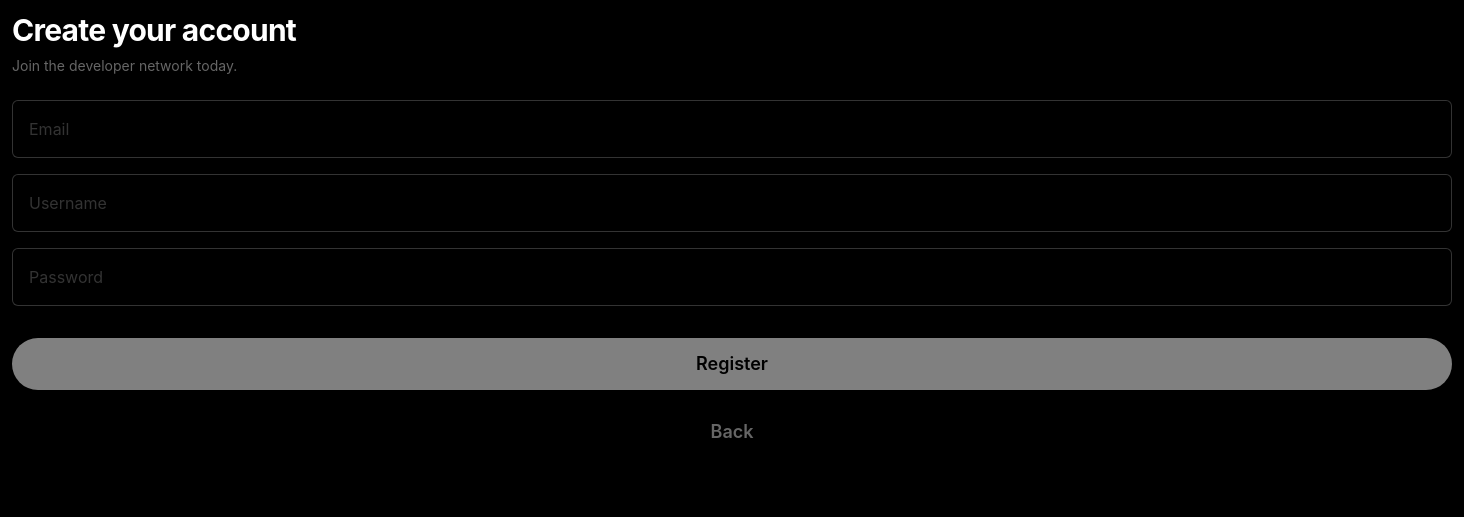
Test: RegisterView › marks the field the API rejected, not the one the message reads like
In the field with placeholder "Email": (732, 129) [12, 100, 1452, 158], type "new@example.com"
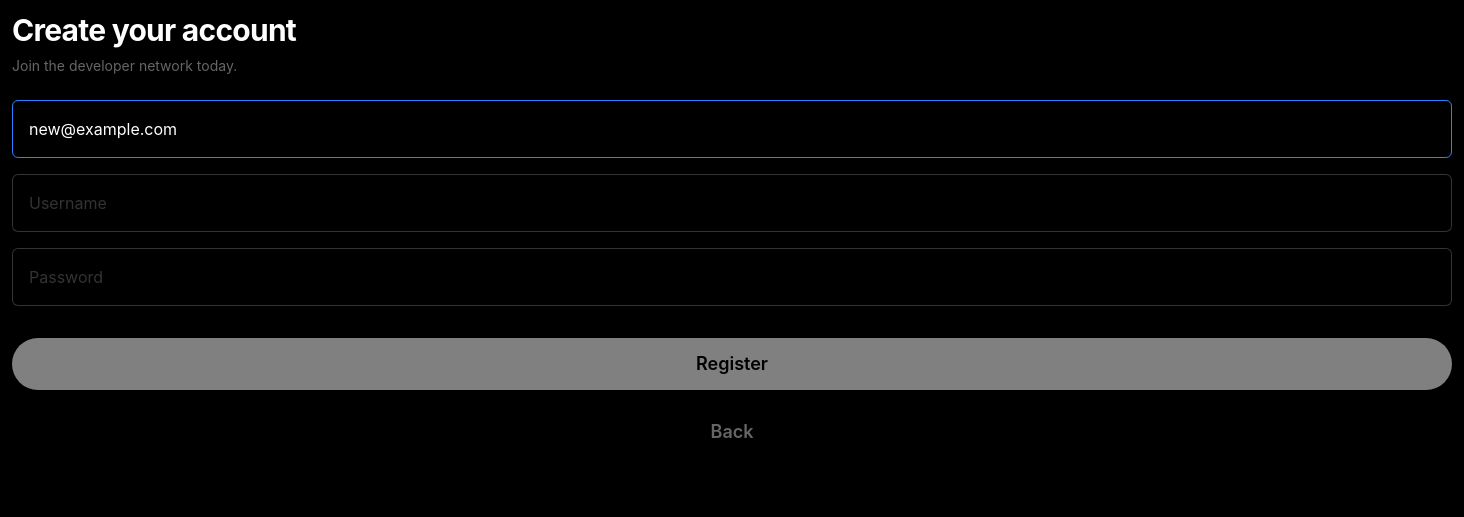
In the field with placeholder "Username": (732, 203) [12, 174, 1452, 232], type "newbie"
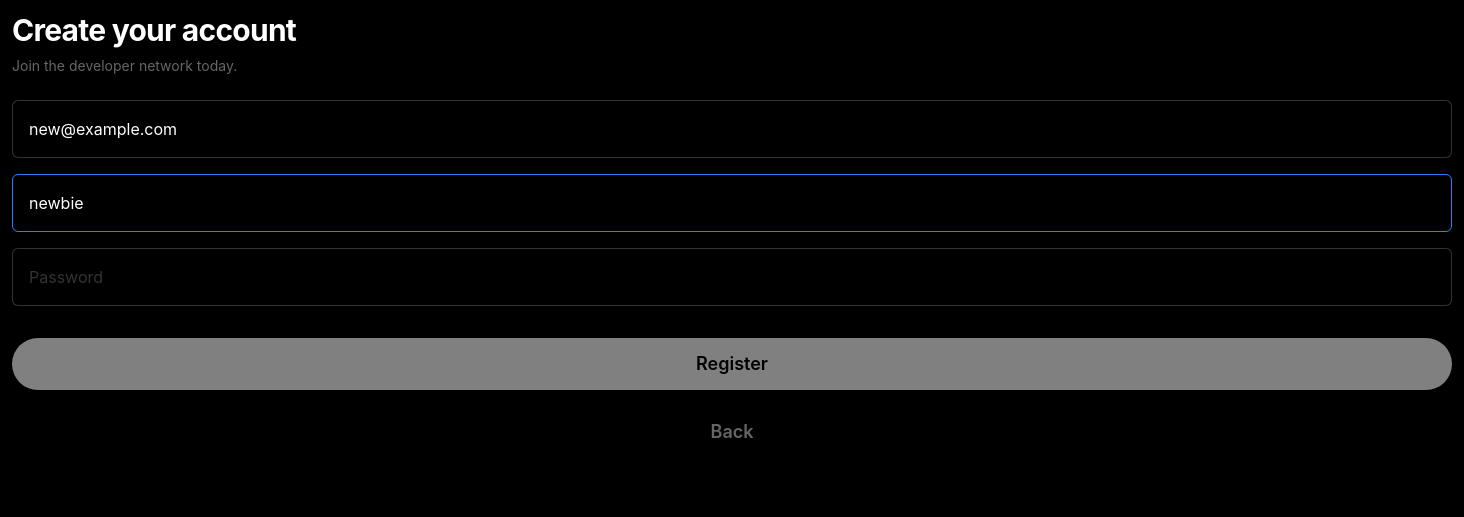
In the password field with placeholder "Password": (732, 277) [12, 248, 1452, 306], type "hunter2hunter2"
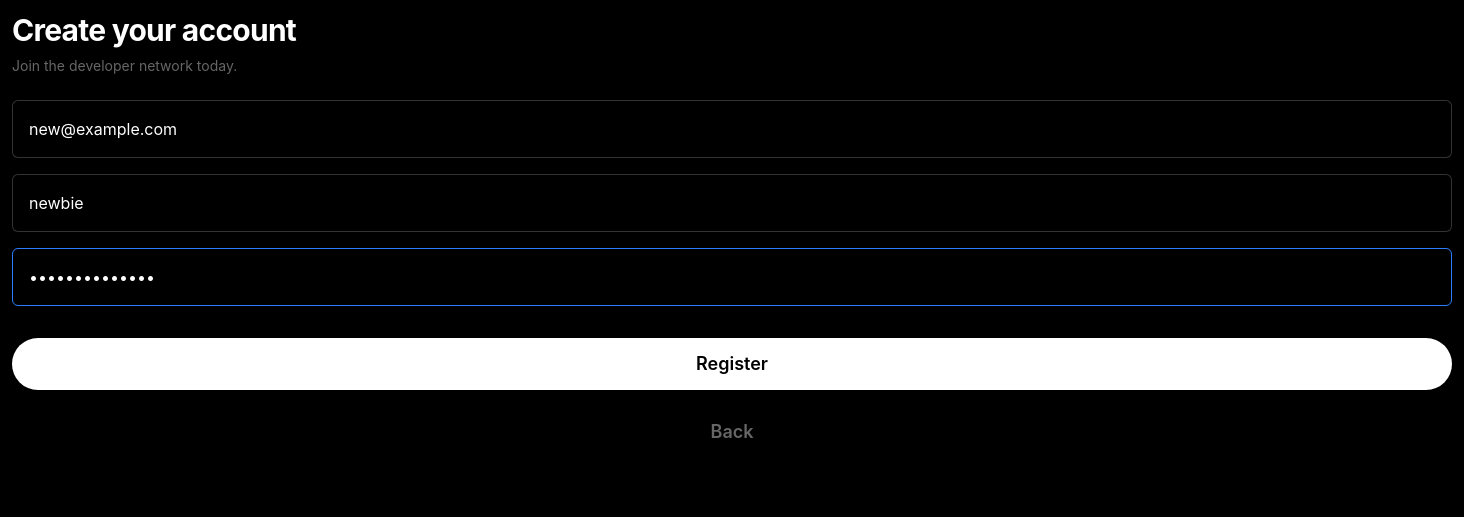
Click the button "Register": (732, 364) [12, 338, 1452, 390]
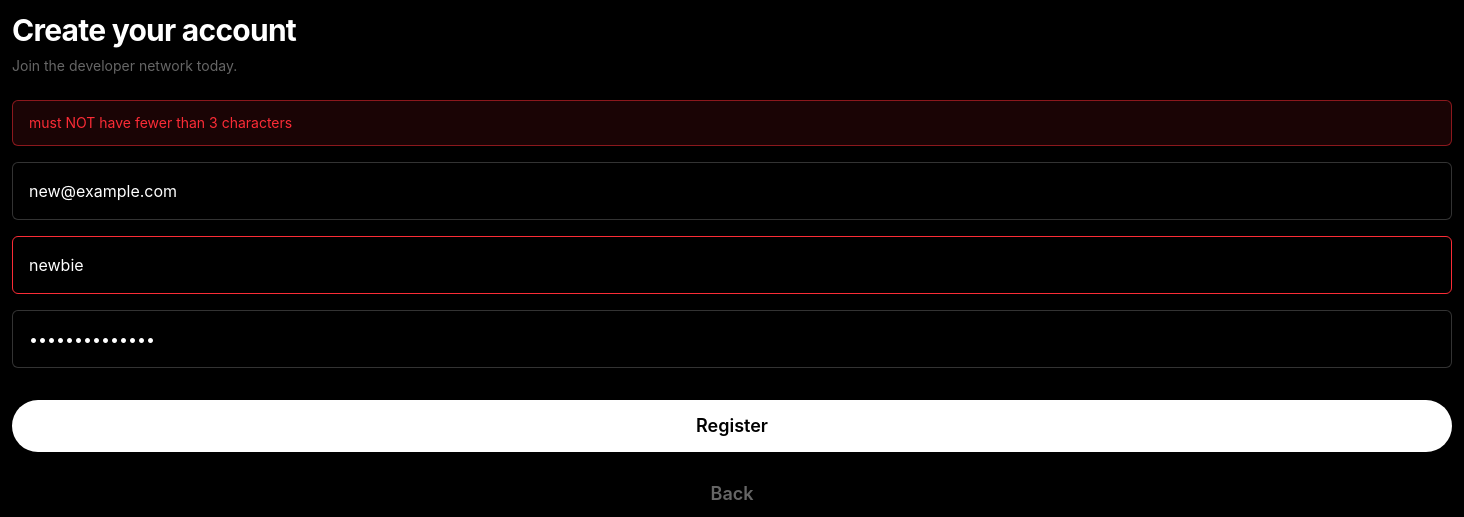
Check: the text "must NOT have fewer than 3 characters" is shown, box [12, 100, 1452, 146]
